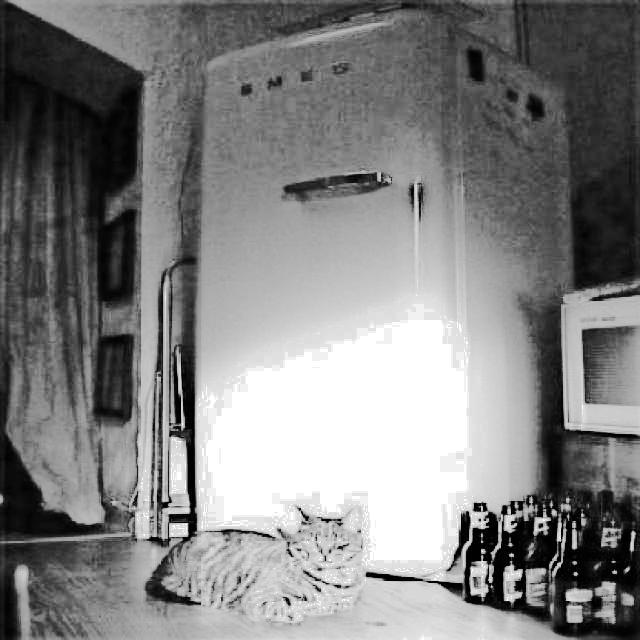Cat: (141, 501, 372, 629)
